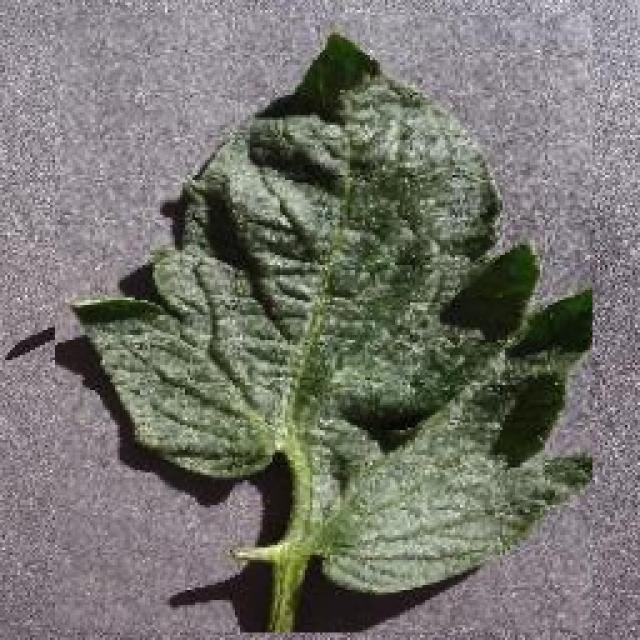Healthy: (55, 12, 593, 632)
